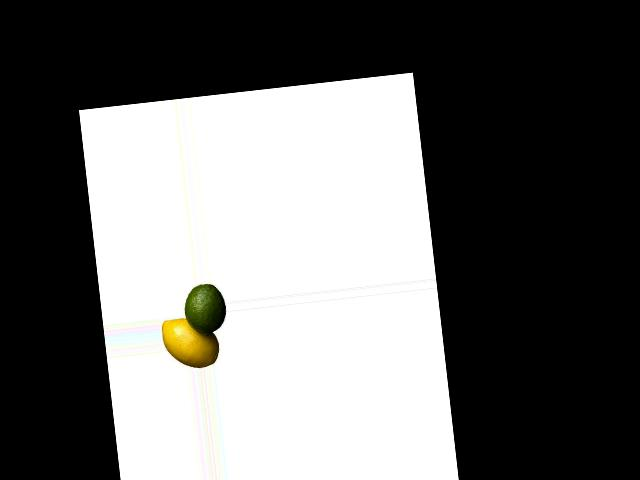lemon: (174, 280, 231, 345)
